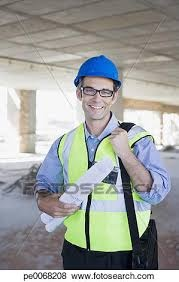blue: (76, 55, 122, 119)
